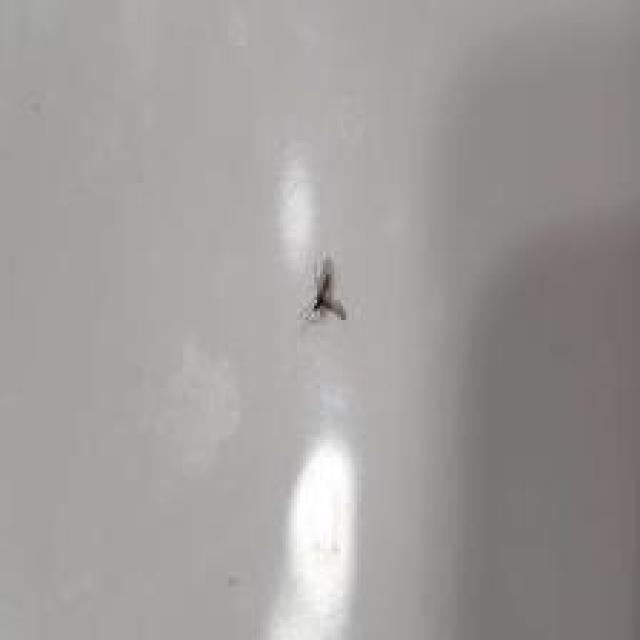Culex: (299, 251, 347, 323)
